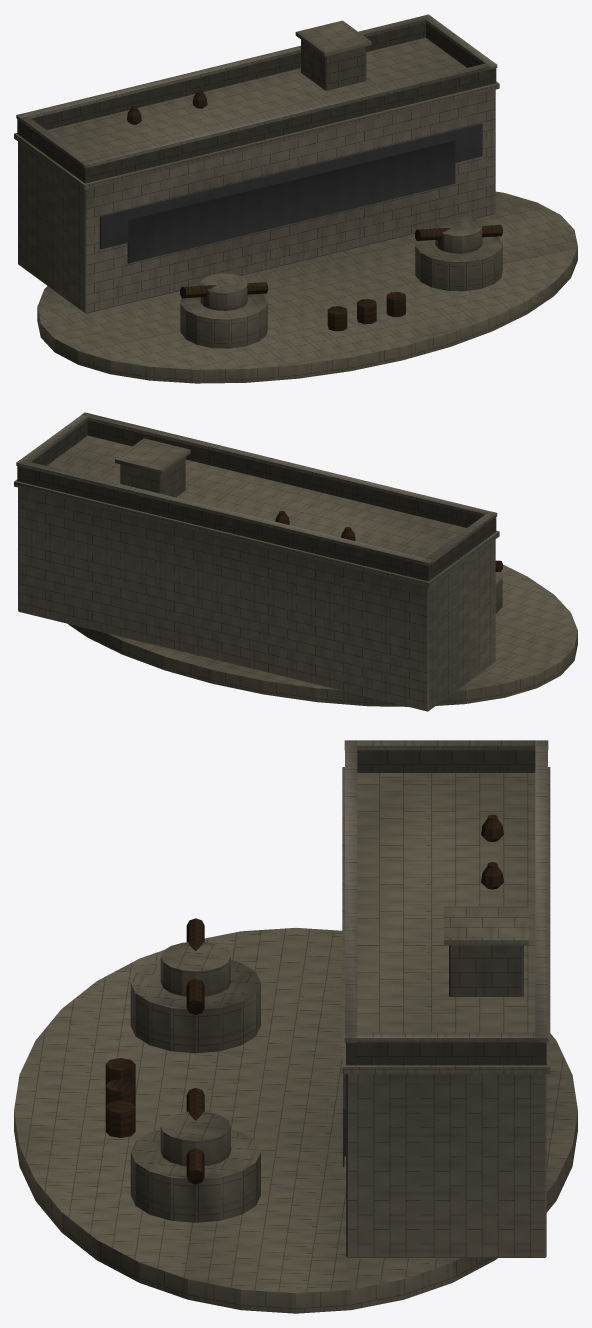
Rendered from workshop-israelite.glb.
The picture shows the model from 3 angles, top to bottom: view 1: azimuth 30°, elevation 25°; view 2: azimuth 150°, elevation 25°; view 3: azimuth 270°, elevation 25°; orthographic projection. The views are drawn at different scales.
Visible parts, largest first — view 1: LOD0; view 2: LOD0; view 3: LOD0.
Boxes of the visible parts, x1=… form: LOD0: x1=14, y1=14, x2=577, y2=383; LOD0: x1=14, y1=412, x2=577, y2=711; LOD0: x1=14, y1=740, x2=577, y2=1313.
Size of what is drawn, in the model's own units: 1.72 by 0.601 by 1.13.
2 materials, 2 textured.
